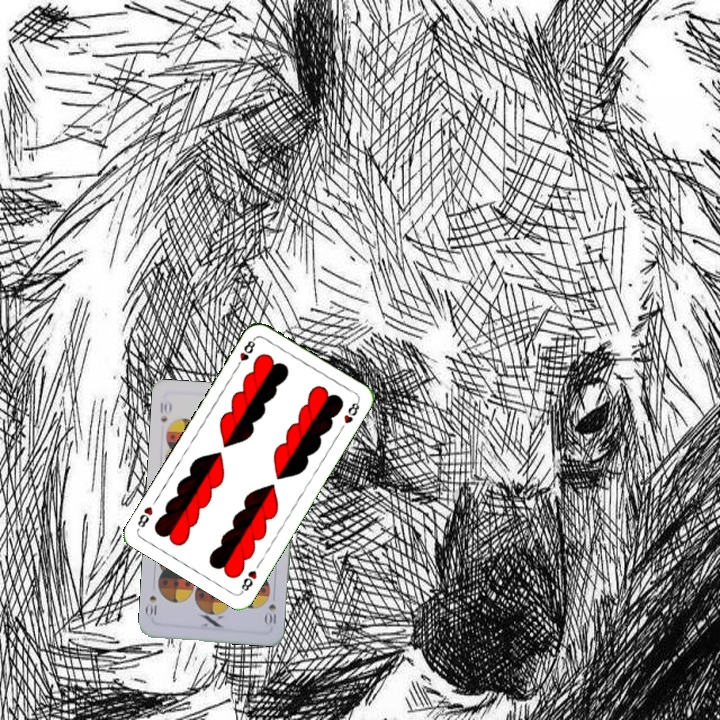H8: (232, 334, 258, 371), (237, 566, 259, 595)
S10: (156, 398, 174, 425), (262, 600, 279, 628)
